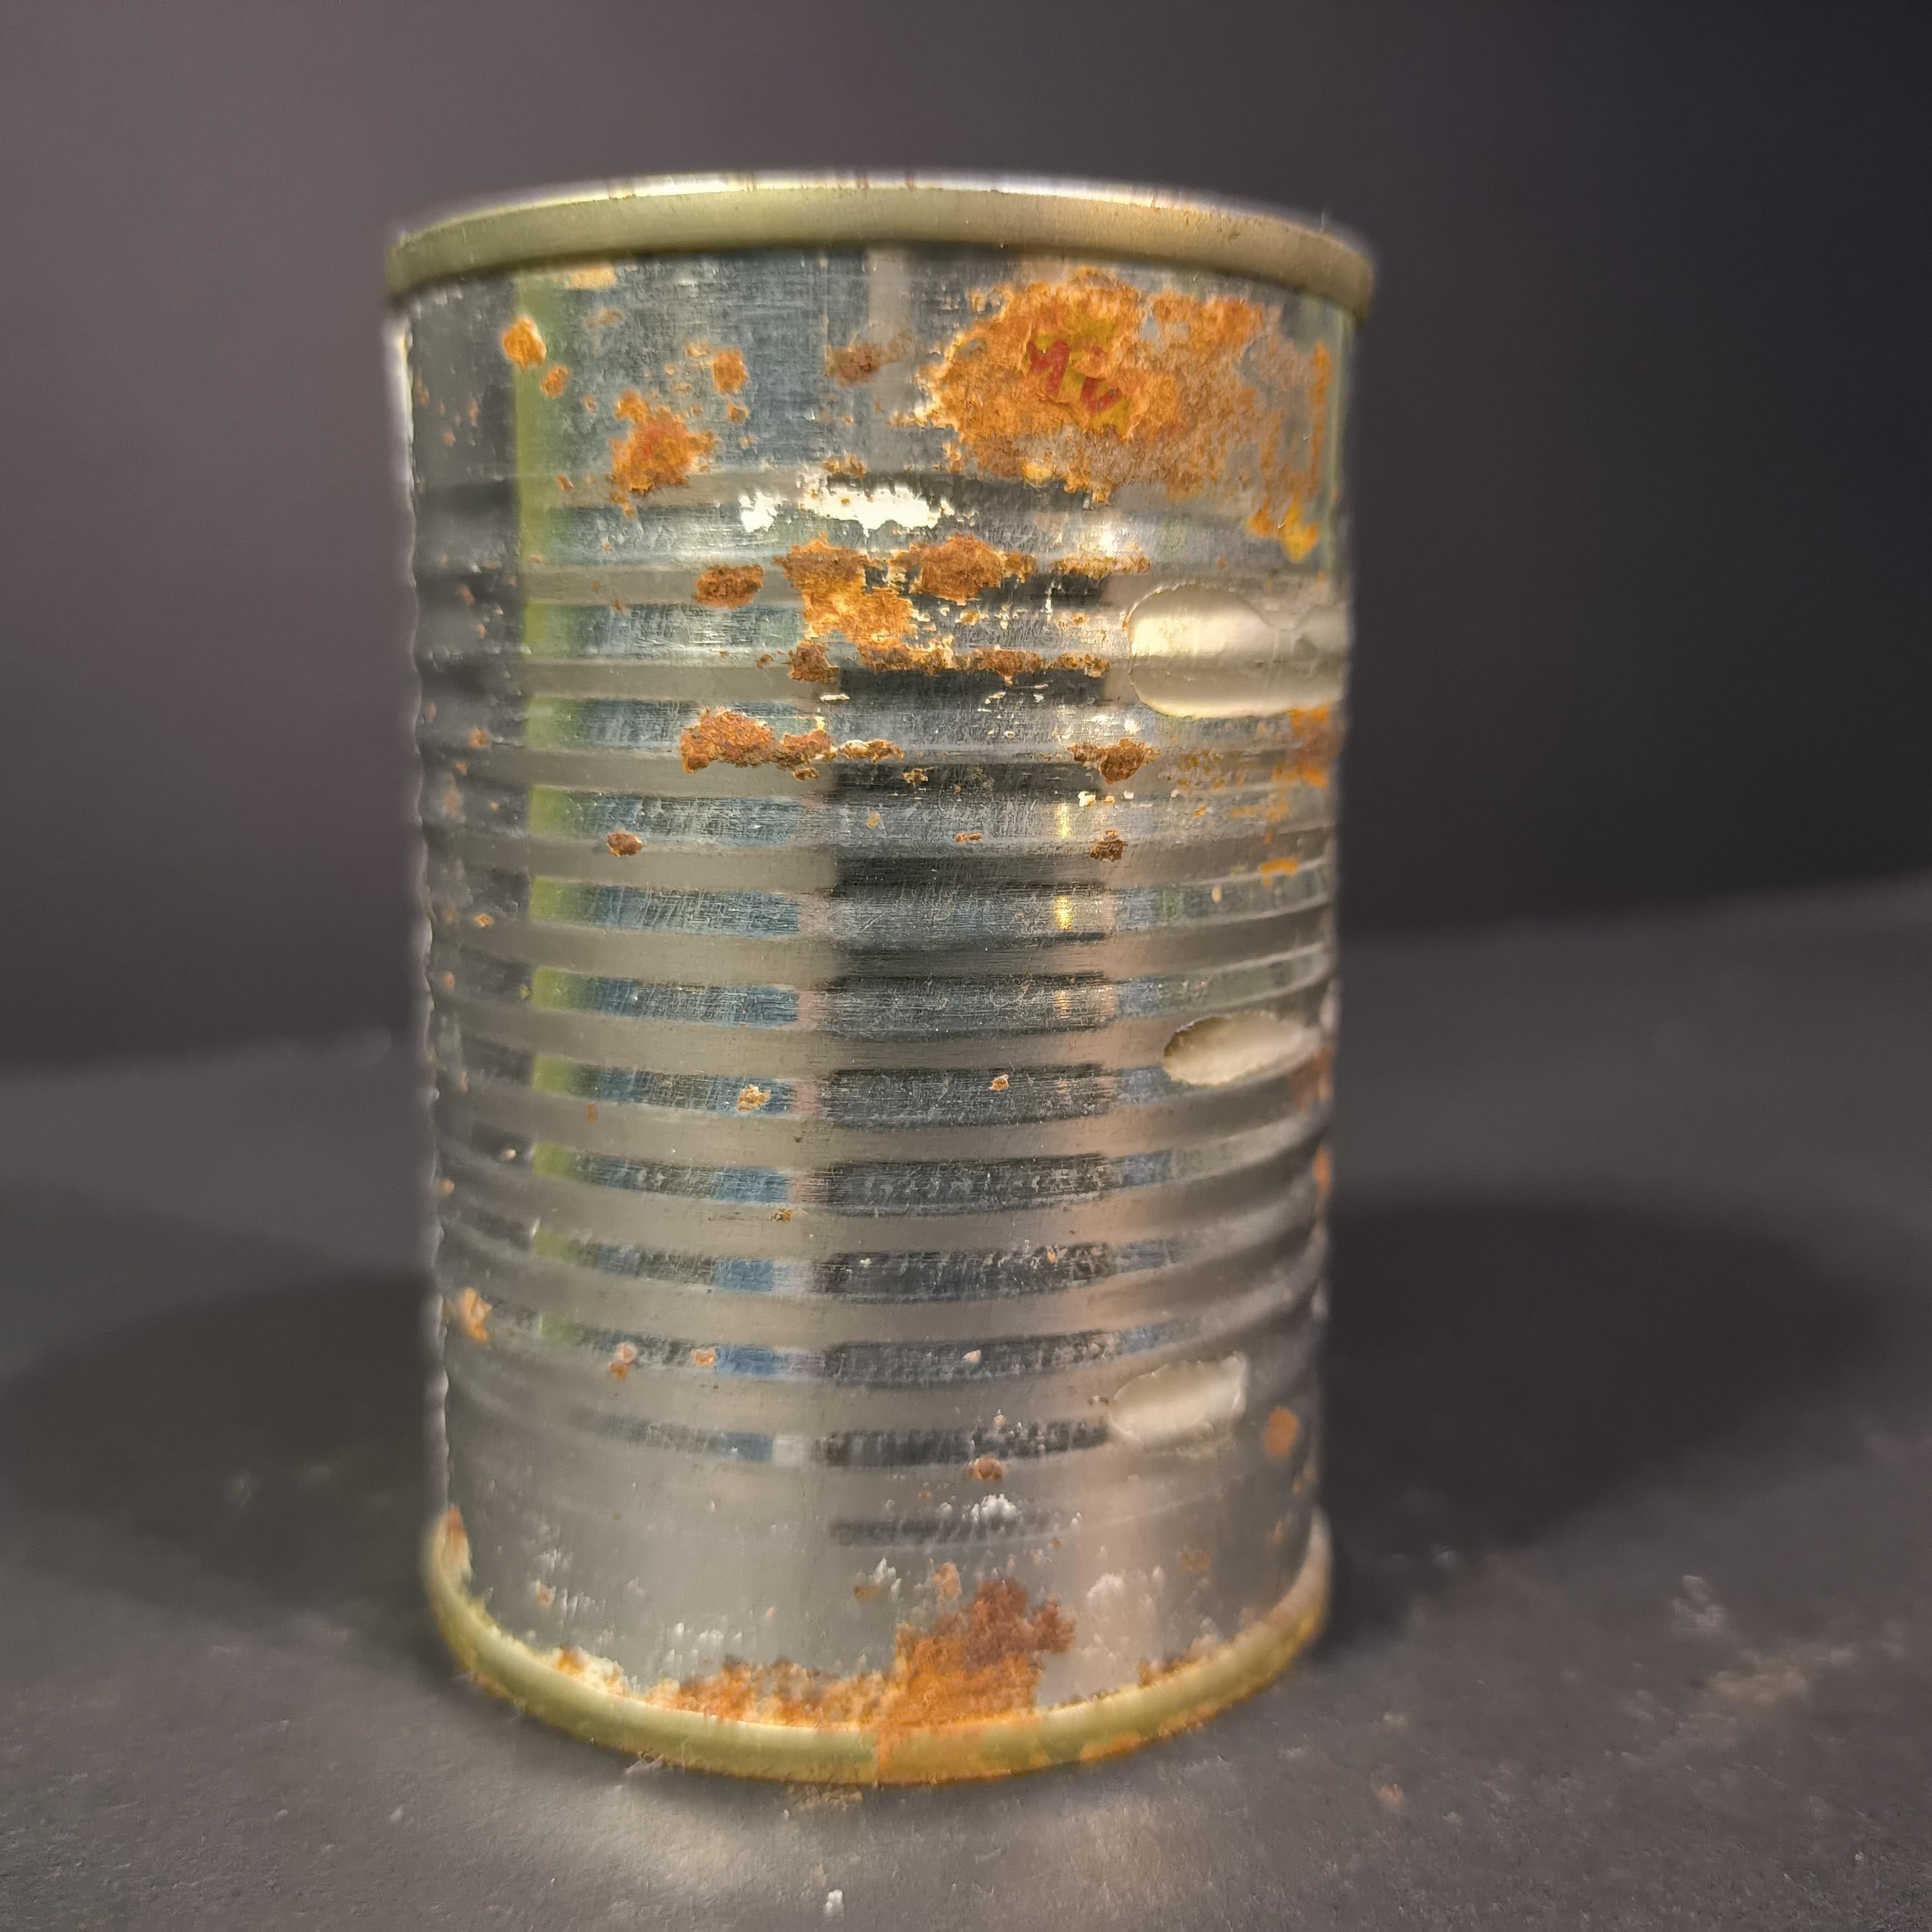Rusted: (359, 131, 1414, 1792)
